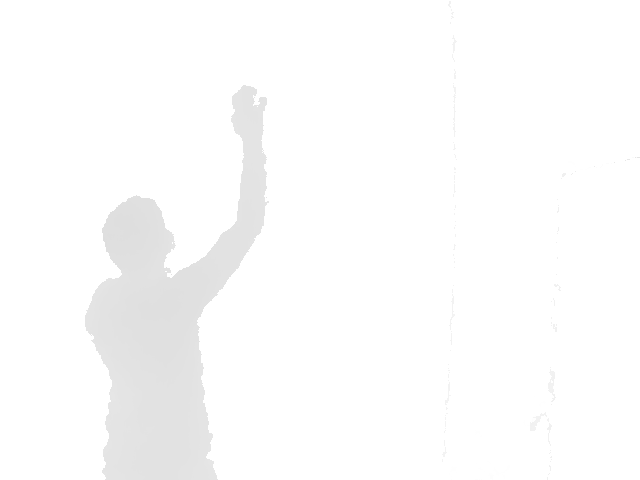hand: (229, 83, 269, 141)
head: (101, 194, 179, 276)
person: (83, 83, 269, 480)
